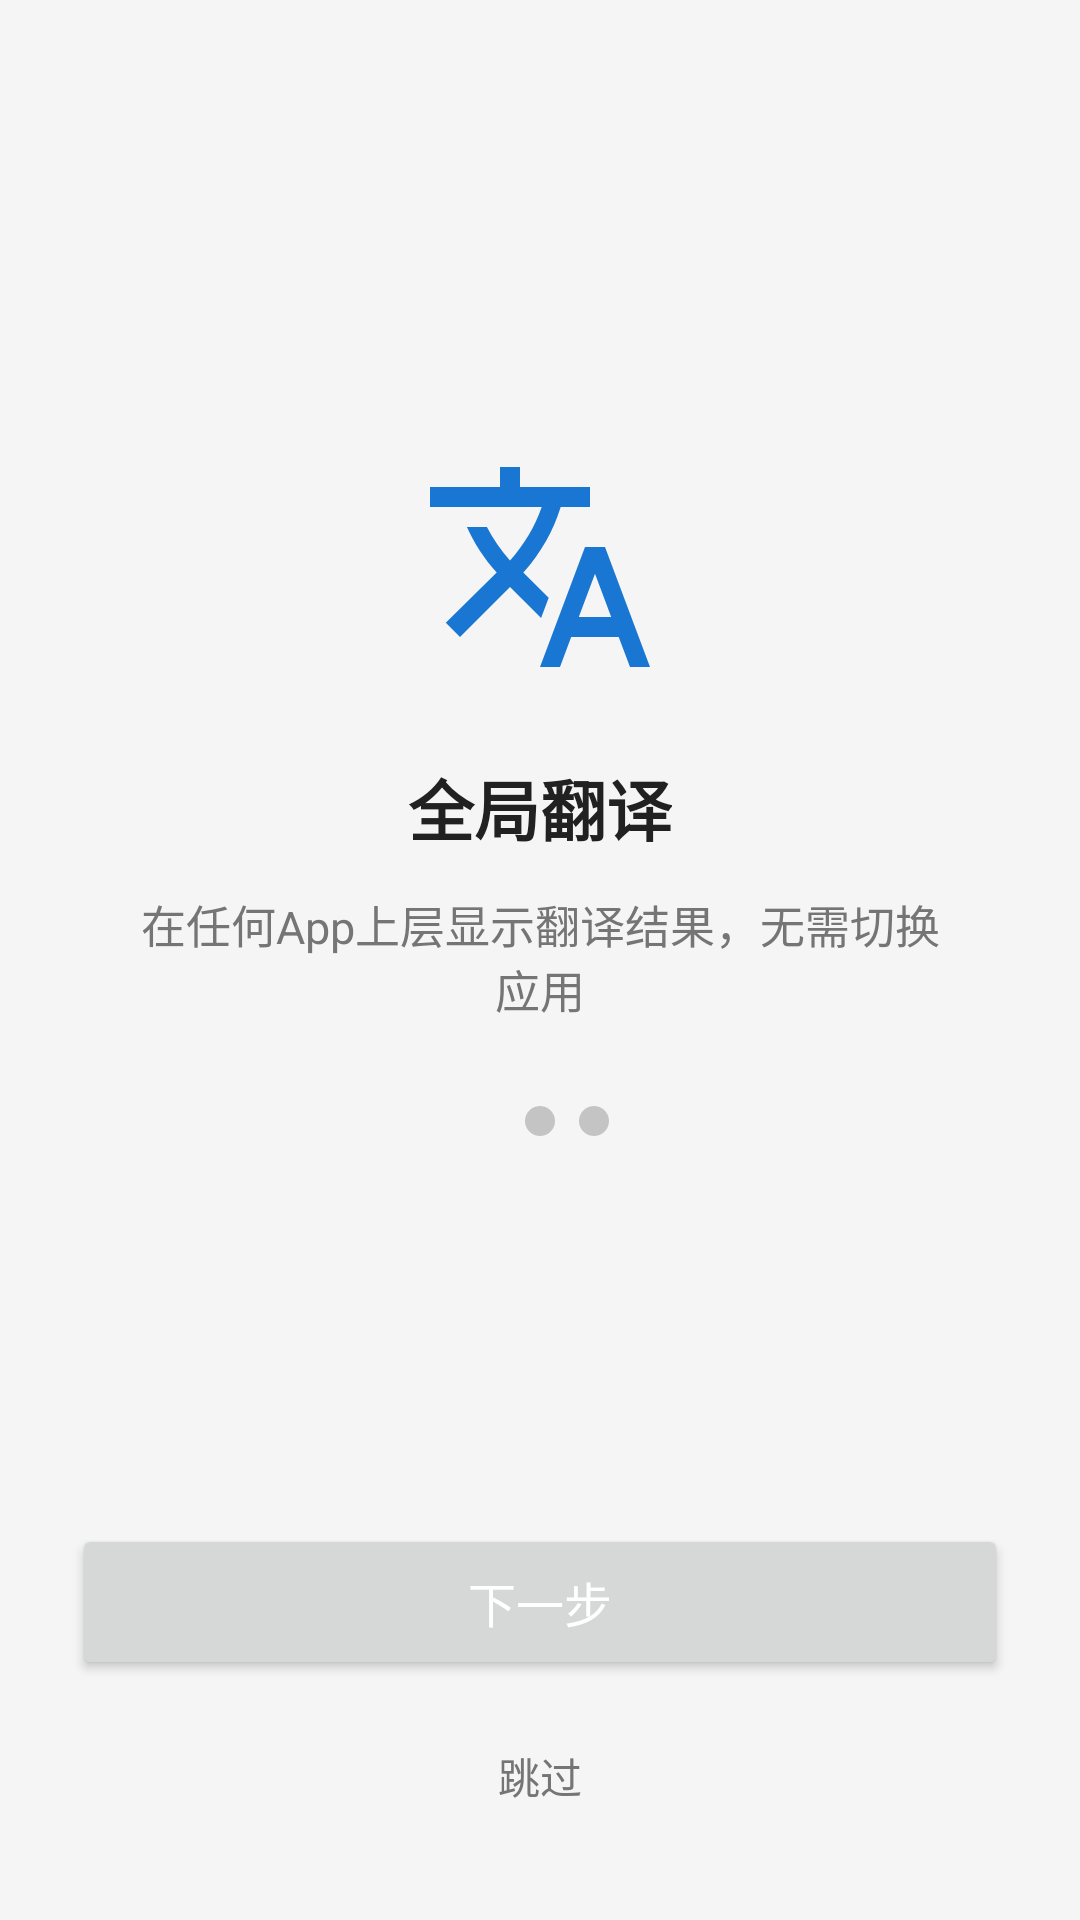

Named icons in this screenshot (1080 × 1920) and their centers, (x,y):
翻译图标: (540,567)
